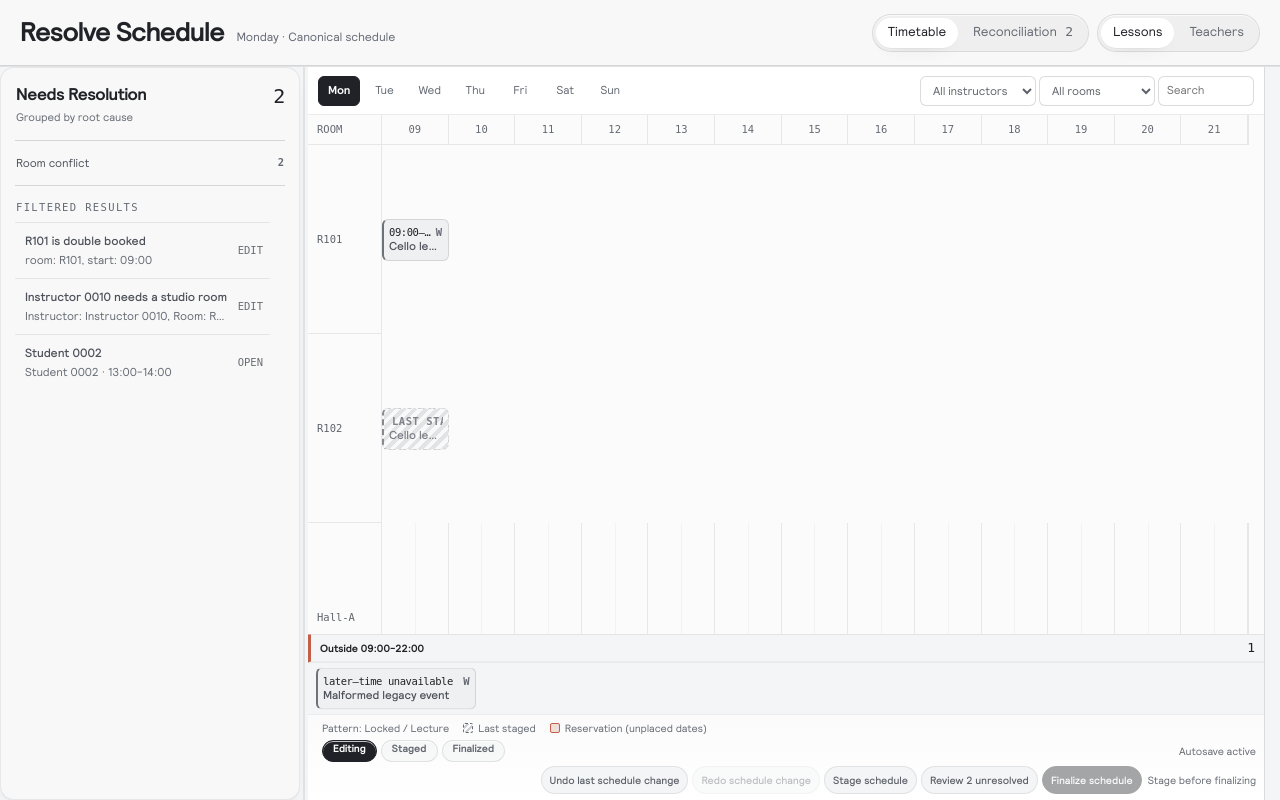
Test: ResolvePage › shows last-staged ghosts and finalize intercept while editing diverges from validation authority
This screenshot has width=1280, height=800.
Check: the text "Stage before finalizing" is shown, box [1148,772,1256,787]
Check: the button "Finalize schedule" is disabled, box [1042,766,1142,794]
Click the button "Teachers": point(1217, 32) [1177,18,1256,48]
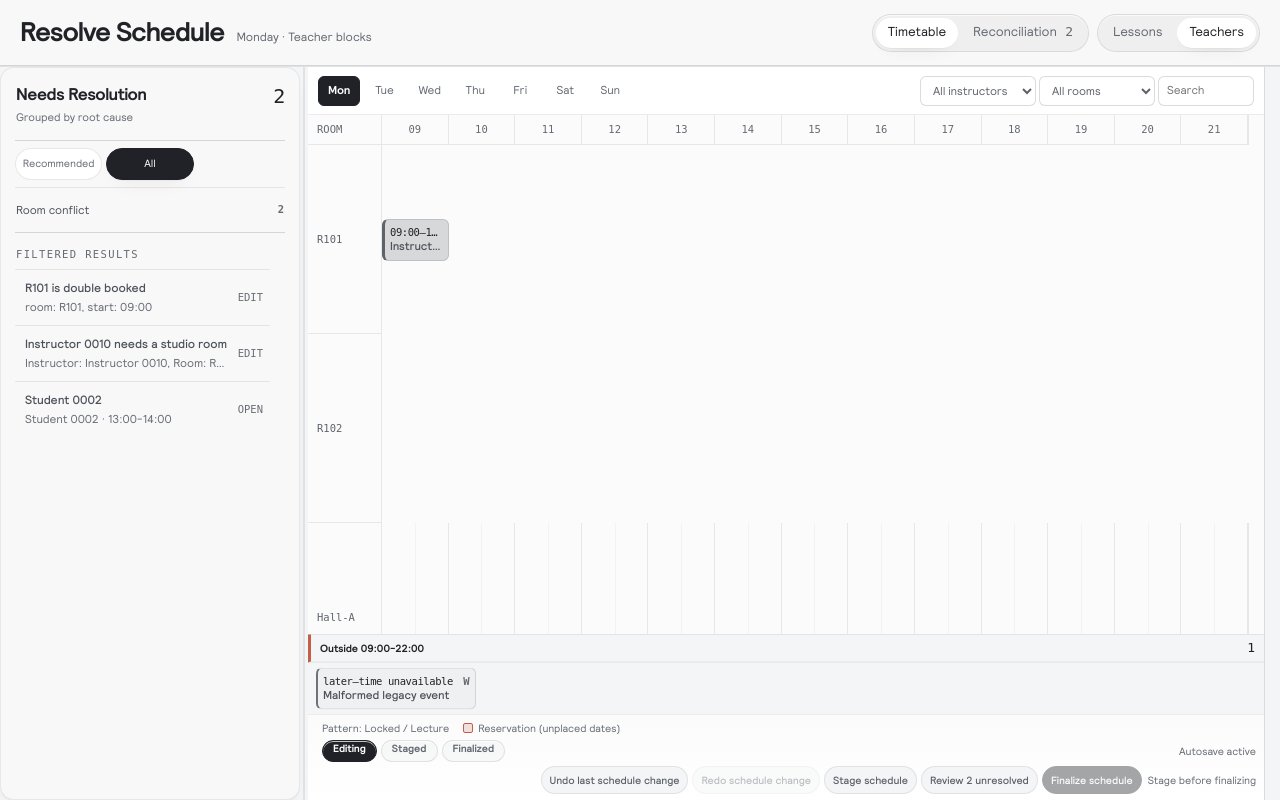
Check: the element with test id "ghost-assignment" is gone
Check: the text "Last staged" is gone
